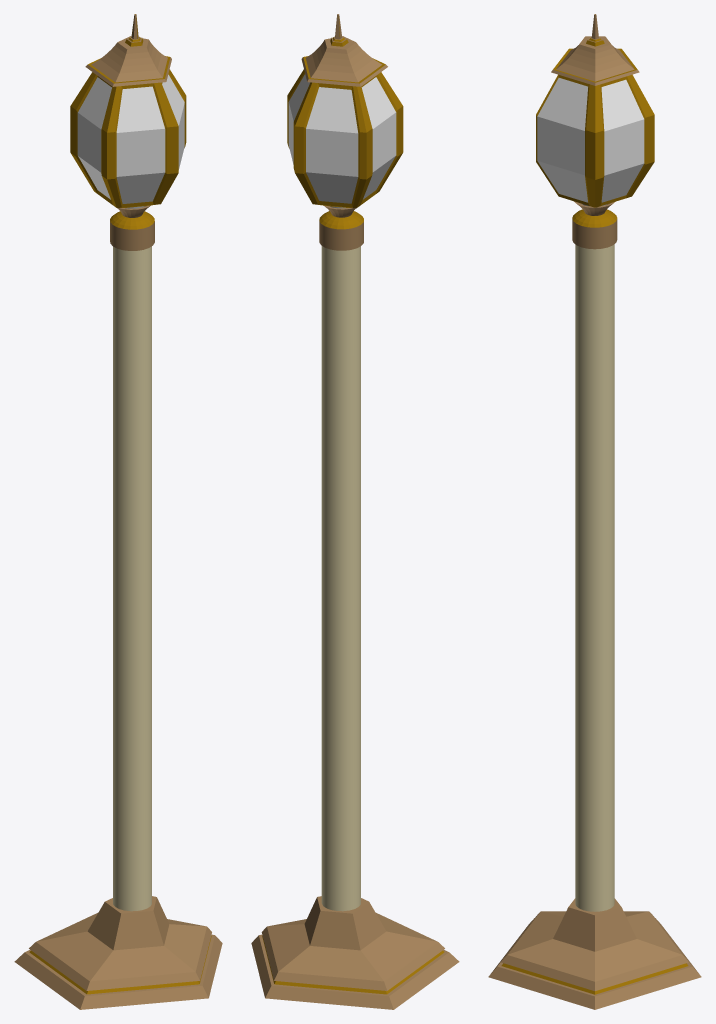
File: lamp๘2.fbx
3 views of the same model, side by side, from view 1: azimuth 30°, elevation 25°; view 2: azimuth 150°, elevation 25°; view 3: azimuth 270°, elevation 25° (orthographic).
Parts seen in each view (by area): view 1: pCylinder36; view 2: pCylinder36; view 3: pCylinder36.
Boxes of the visible parts, <box> form: pCylinder36: <box>14,14,222,1009</box>; pCylinder36: <box>251,14,459,1009</box>; pCylinder36: <box>488,14,701,1009</box>.
Size of the model in its own units: 3.09 by 16 by 3.25.
